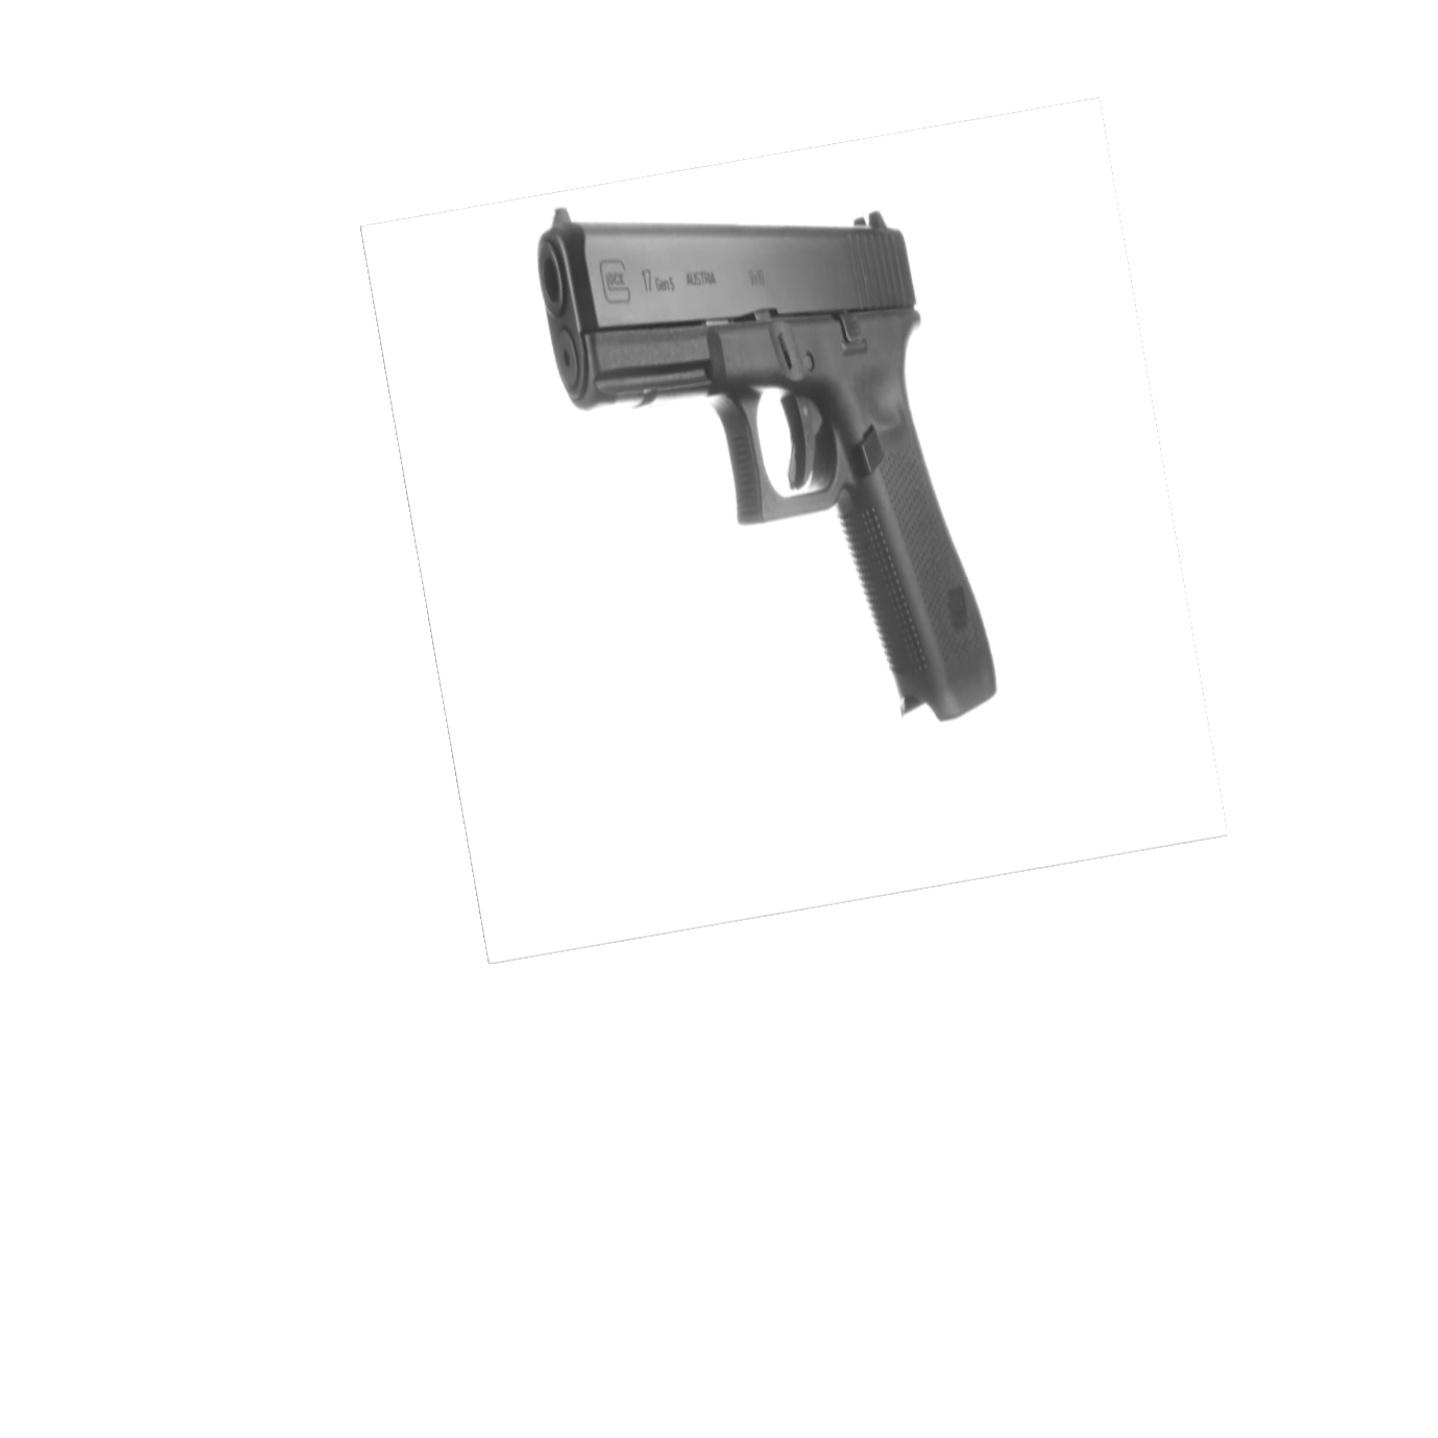gun: (524, 199, 1022, 736)
